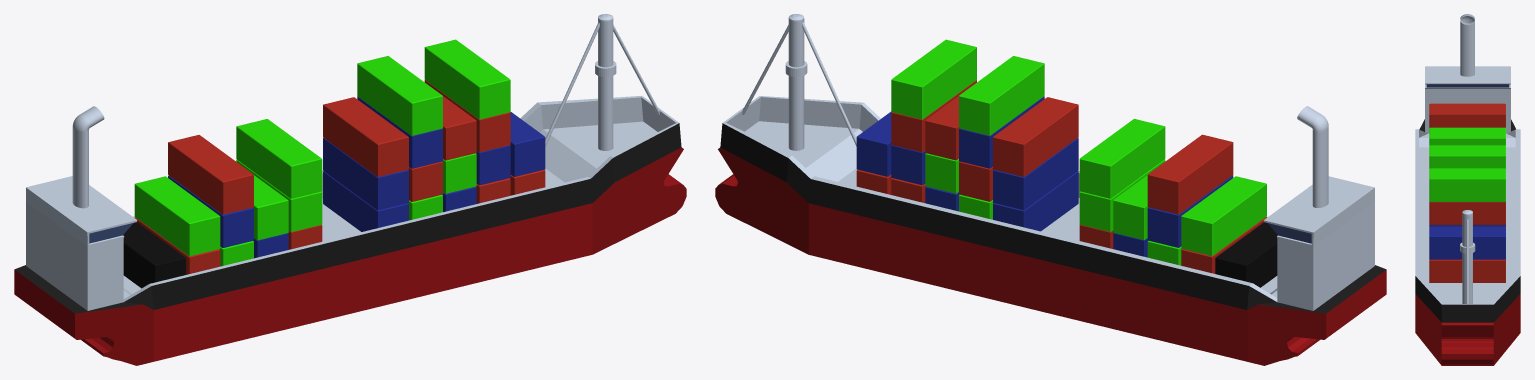
File: Ship2.fbx
The picture shows the model from 3 angles, left to right: view 1: azimuth 30°, elevation 25°; view 2: azimuth 150°, elevation 25°; view 3: azimuth 270°, elevation 25°; orthographic projection. The views are drawn at different scales.
Parts seen in each view (by area): view 1: Plane, Cube.011, Cube.008, Cube.010, Cylinder, Cube.009; view 2: Plane, Cube.011, Cube.008, Cube.010, Cylinder, Cube.009; view 3: Plane, Cube.011, Cube.008, Cube.010, Cylinder.
Part boxes in pixels (x1,y1,x2,y2): Plane: (14, 95, 686, 365); Cube.011: (134, 39, 510, 266); Cube.008: (134, 80, 545, 274); Cube.010: (168, 96, 545, 258); Cylinder: (72, 14, 659, 208); Cube.009: (123, 222, 185, 288); Plane: (715, 96, 1386, 365); Cube.011: (891, 39, 1266, 265); Cube.008: (856, 80, 1266, 273); Cube.010: (856, 96, 1233, 257); Cylinder: (742, 14, 1328, 207); Cube.009: (1215, 222, 1277, 287); Plane: (1415, 66, 1520, 365); Cube.011: (1429, 127, 1505, 201); Cube.008: (1429, 103, 1505, 282); Cube.010: (1429, 224, 1505, 259); Cylinder: (1460, 14, 1475, 303).
Size of the model in its own units: 2213 by 786 by 466.
